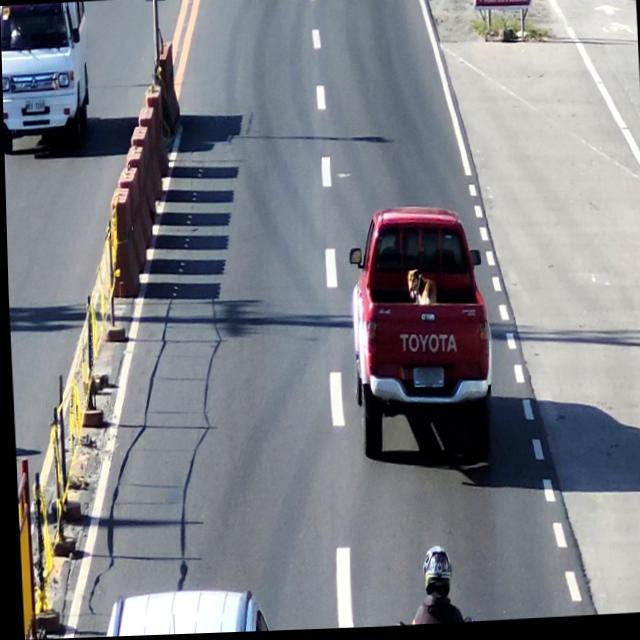Car: (348, 207, 493, 458), (101, 573, 260, 637)
License-Plate: (382, 543, 474, 629)
